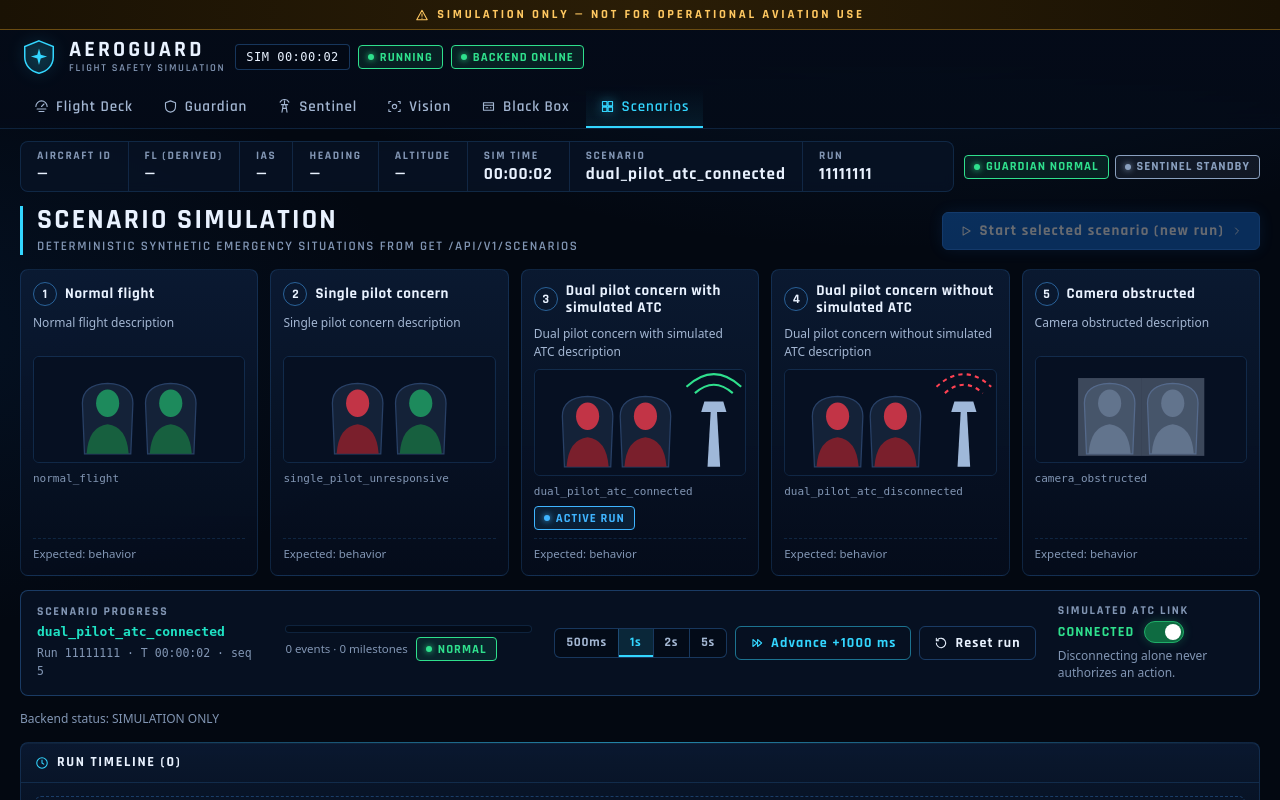
Test: ISSUE 3 REGRESSION: Transport failures classified as uncertain & retry identity › classifies response body streaming failure as uncertain with retry preserving command_id
The width and height of the screenshot is (1280, 800).
Click the button "Advance +1000 ms" at (823, 643), box [735, 626, 912, 660]
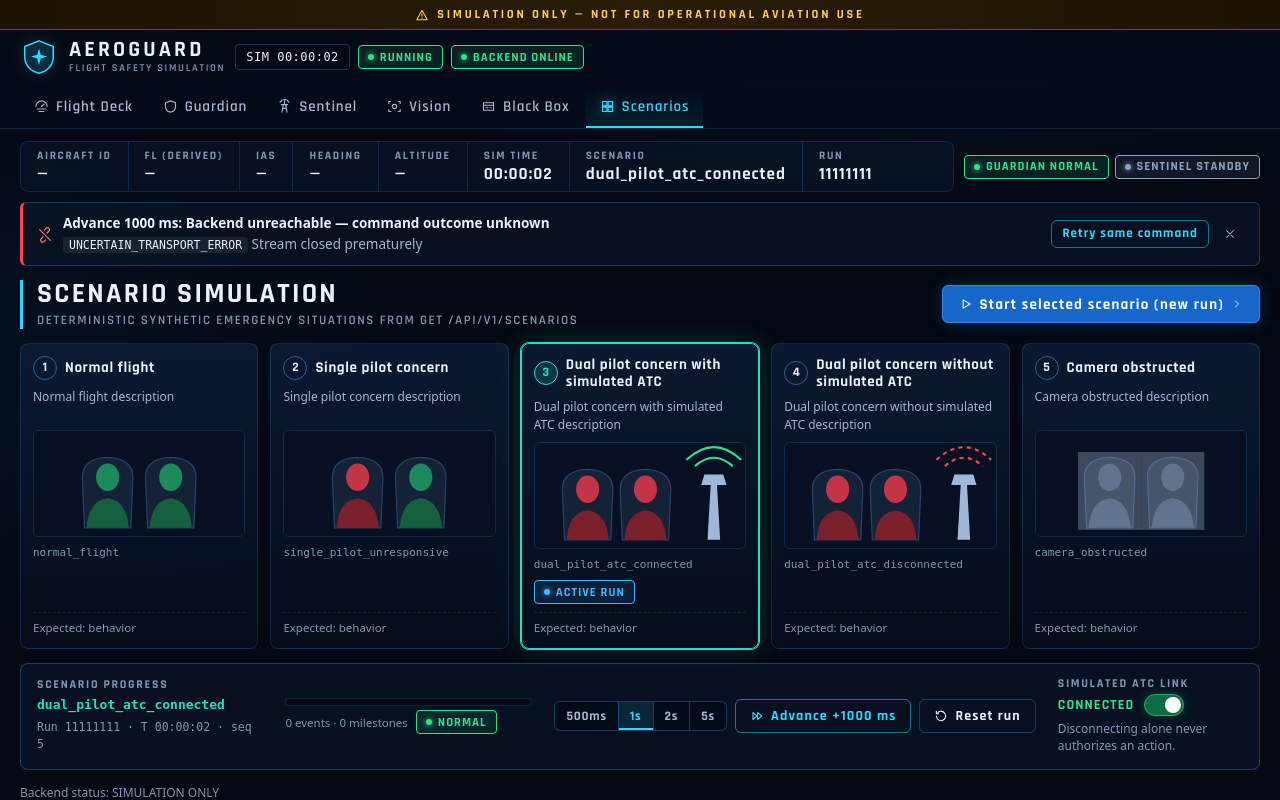
# Retry button is available
Click the button "Retry same command" at (1130, 234), box [1052, 220, 1209, 248]
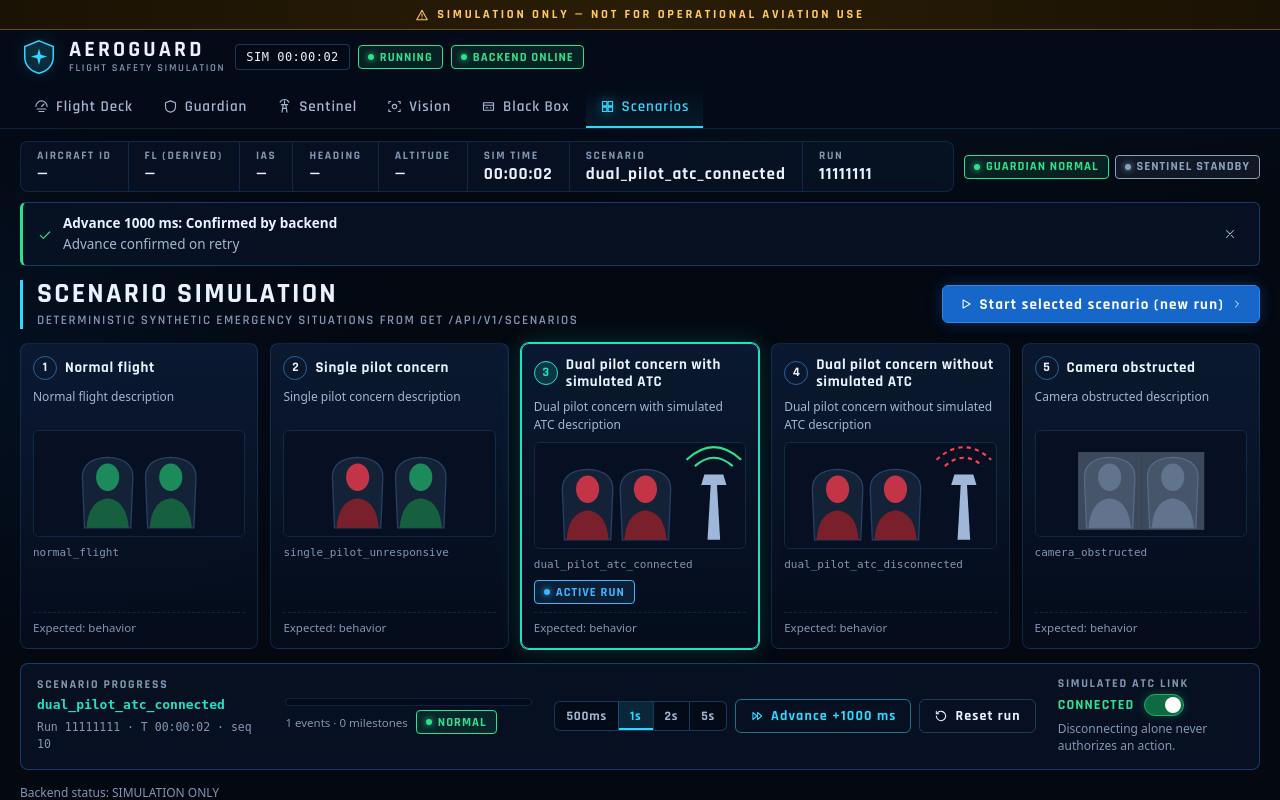
Now the text "Advance confirmed on retry" is shown, box [63, 235, 239, 253]
